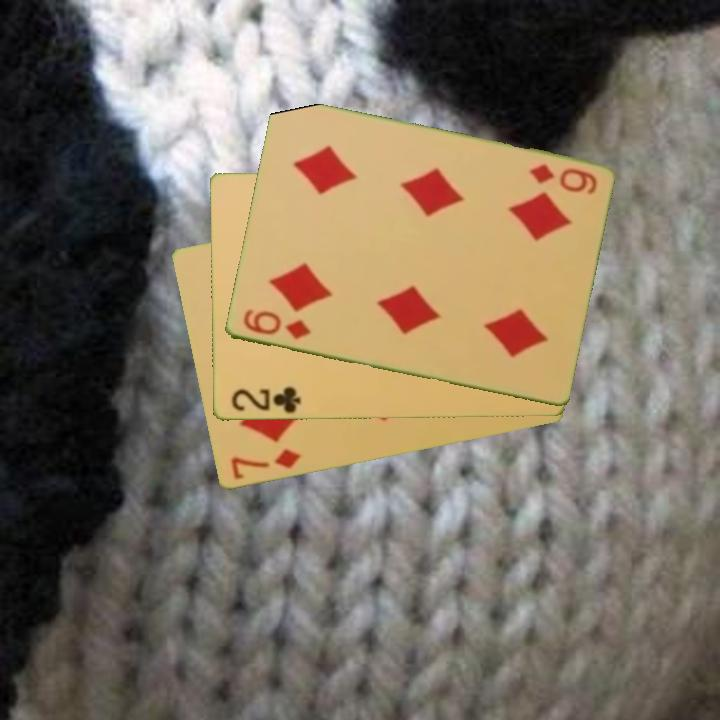2c: (227, 384, 303, 417)
6d: (239, 306, 314, 343), (525, 161, 600, 198)
7d: (227, 446, 303, 483)
